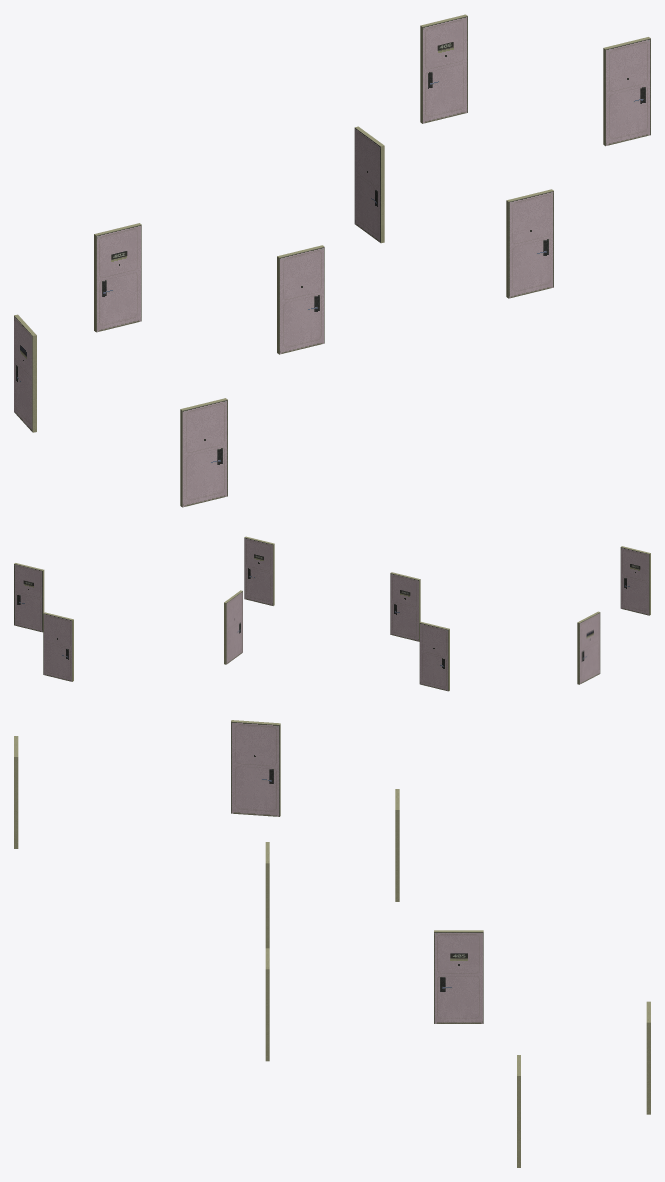
File: door.glb
3 renders of one model, top to bottom at view 1: azimuth 30°, elevation 25°; view 2: azimuth 150°, elevation 25°; view 3: azimuth 270°, elevation 25°, orthographic. The views are drawn at different scales.
Visible parts, largest first — view 1: door-col.002, door-col.008, door-col.004, door-col.006, door-col.005, door-col.001, door-col.007, door-col.003; view 2: door-col.001, door-col.005, door-col.008, door-col.004, door-col.006, door-col.002, door-col.003, door-col.007; view 3: door-col.003, door-col.007.
Boxes of the visible parts, x1,y1,x2,y2 form: door-col.002: (277, 245, 324, 354); door-col.008: (506, 189, 553, 298); door-col.004: (180, 398, 227, 507); door-col.006: (603, 37, 650, 146); door-col.005: (420, 14, 467, 123); door-col.001: (94, 223, 141, 332); door-col.007: (354, 126, 384, 243); door-col.003: (14, 314, 36, 432); door-col.001: (419, 622, 449, 691); door-col.005: (43, 612, 73, 681); door-col.008: (244, 536, 274, 605); door-col.004: (620, 546, 650, 615); door-col.006: (14, 563, 44, 632); door-col.002: (390, 572, 420, 641); door-col.003: (577, 611, 600, 684); door-col.007: (224, 590, 242, 664); door-col.003: (231, 720, 280, 816); door-col.007: (434, 930, 483, 1023).
Size of the model in its own units: 20.11 by 2.43 by 15.2.
Materials: 2 (2 with a texture image).
